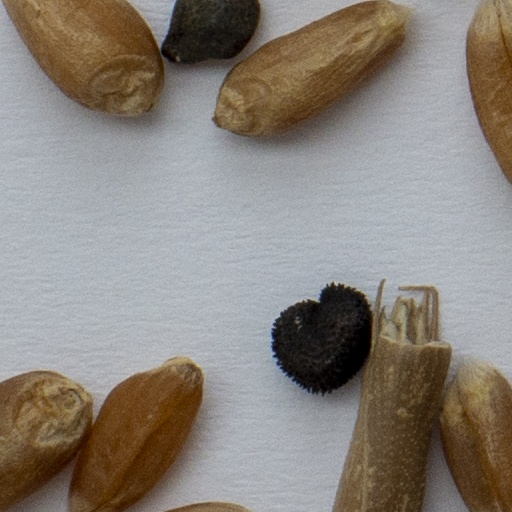Peel-poly: (333, 288, 451, 511)
